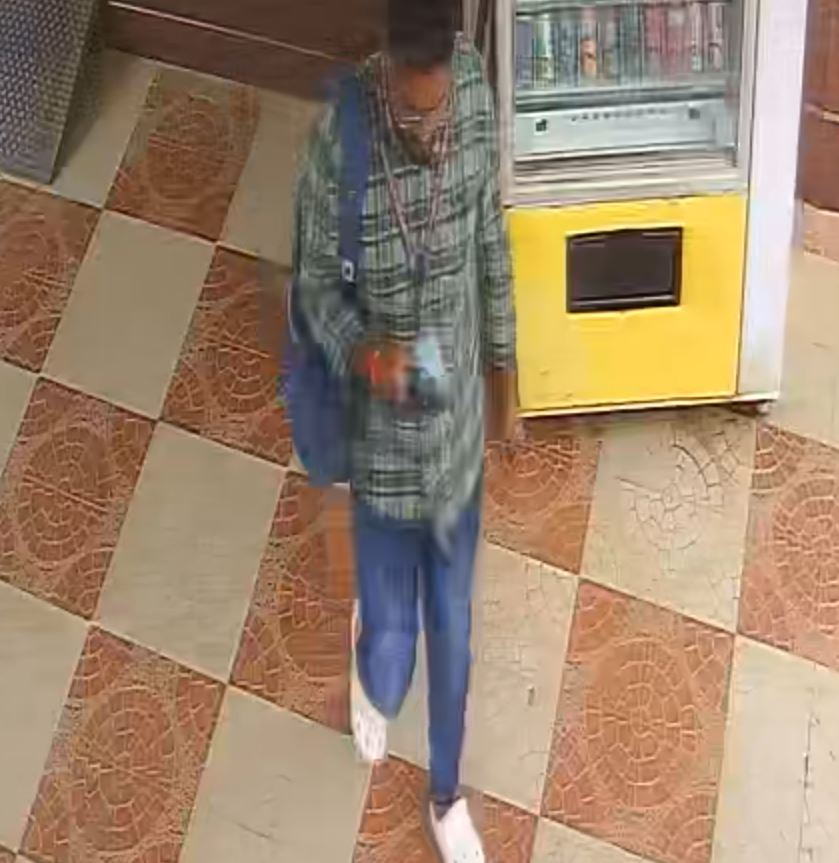intruder: (277, 2, 521, 863)
